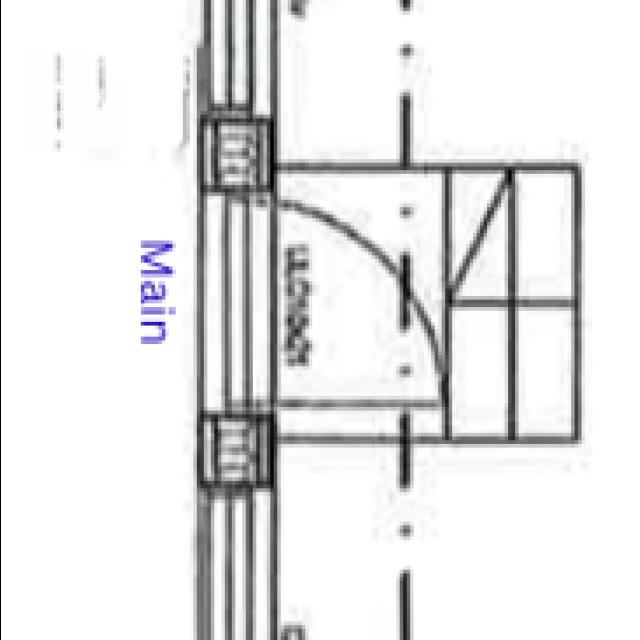main: (175, 158, 461, 448)
